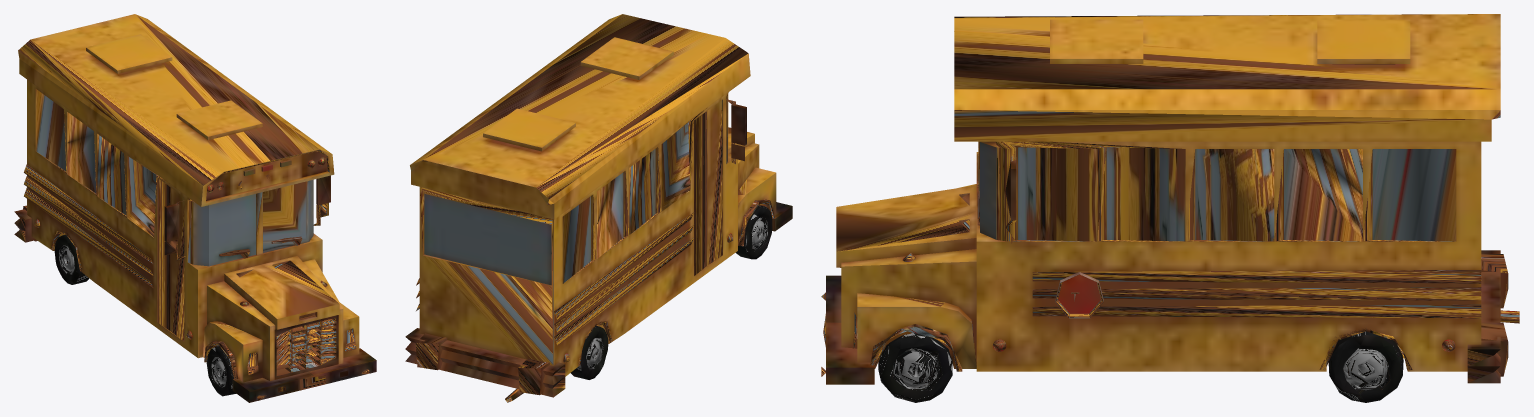
Rendered from school-bus.lod0.glb.
The picture shows the model from 3 angles, left to right: view 1: azimuth 30°, elevation 25°; view 2: azimuth 150°, elevation 25°; view 3: azimuth 270°, elevation 25°; orthographic projection. The views are drawn at different scales.
Visible parts, largest first — view 1: Object_4, Object_30; view 2: Object_4, Object_30; view 3: Object_4, Object_30.
Part boxes in pixels (<box>): Object_4: <box>14,14,376,402</box>; Object_30: <box>54,234,236,396</box>; Object_4: <box>405,14,792,402</box>; Object_30: <box>571,205,772,379</box>; Object_4: <box>821,14,1519,384</box>; Object_30: <box>878,331,1403,402</box>.
Size of the model in its own units: 4.41 by 5.55 by 11.
2 materials, 2 textured.
